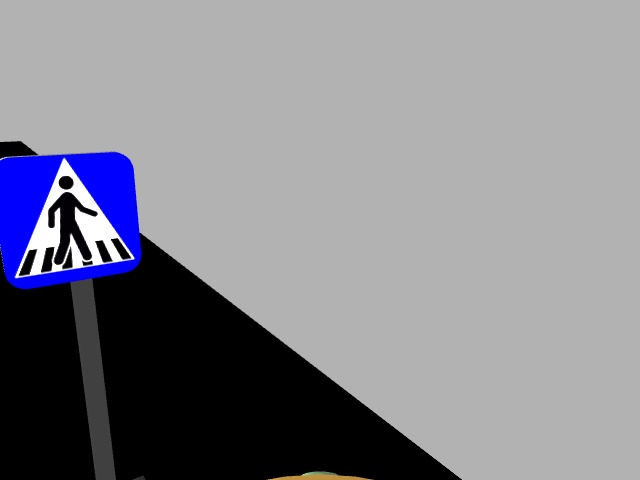Crosswalk: (0, 150, 139, 290)
